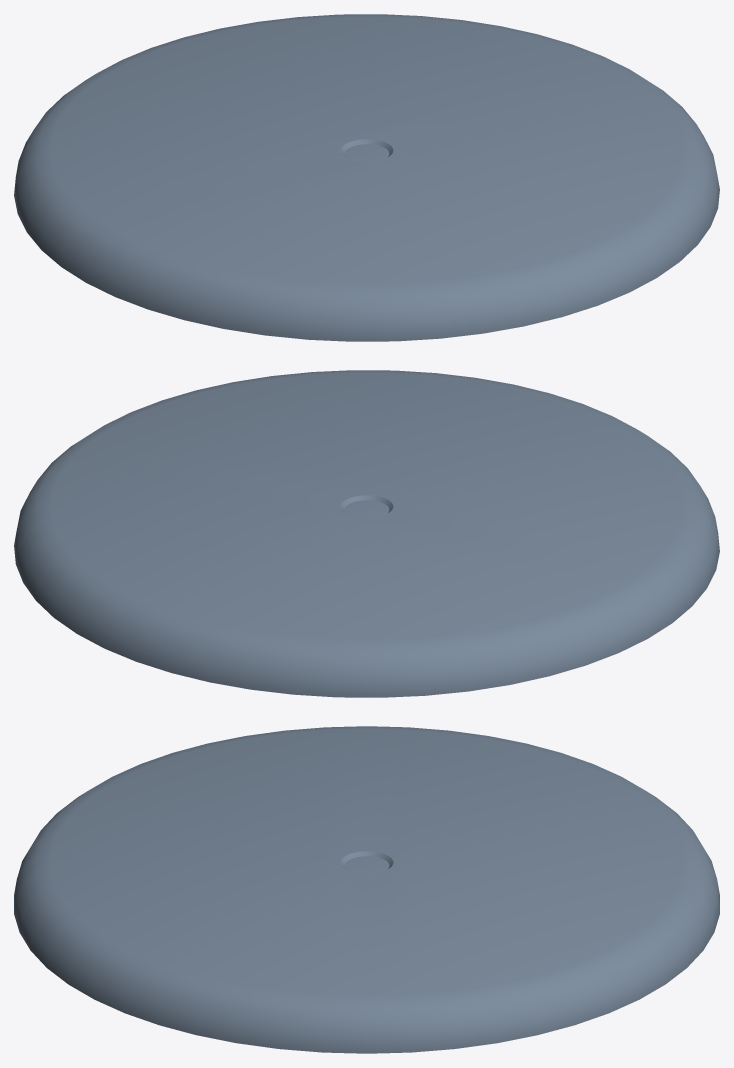
Rendered from original-2.obj.
The picture shows the model from 3 angles, top to bottom: view 1: azimuth 30°, elevation 25°; view 2: azimuth 150°, elevation 25°; view 3: azimuth 270°, elevation 25°; orthographic projection.
Parts seen in each view (by area): view 1: Group1/mesh1/mesh1-geometry#mesh1-geometry; view 2: Group1/mesh1/mesh1-geometry#mesh1-geometry; view 3: Group1/mesh1/mesh1-geometry#mesh1-geometry.
Part boxes in pixels (left/top/right/bottom): Group1/mesh1/mesh1-geometry#mesh1-geometry: left=14, top=14, right=719, bottom=341; Group1/mesh1/mesh1-geometry#mesh1-geometry: left=14, top=370, right=719, bottom=697; Group1/mesh1/mesh1-geometry#mesh1-geometry: left=14, top=726, right=719, bottom=1053.
Bounding box in the file's own units: 0.2206 × 0.0145 × 0.2206.
